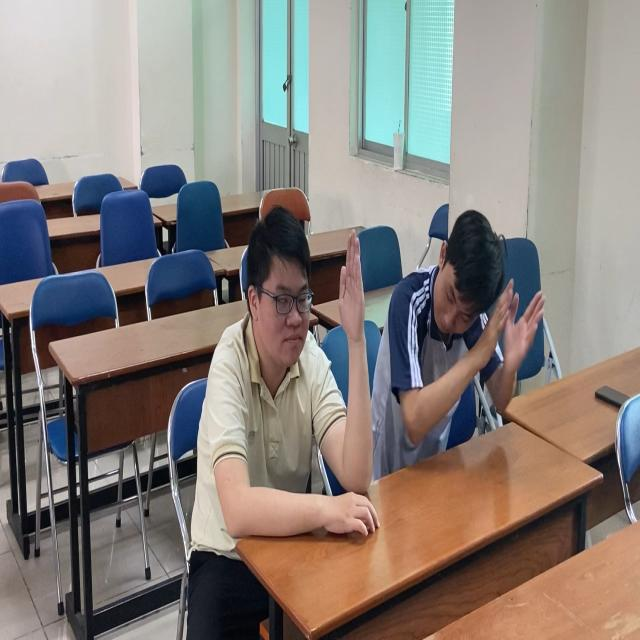raise_hand: (185, 205, 379, 560)
